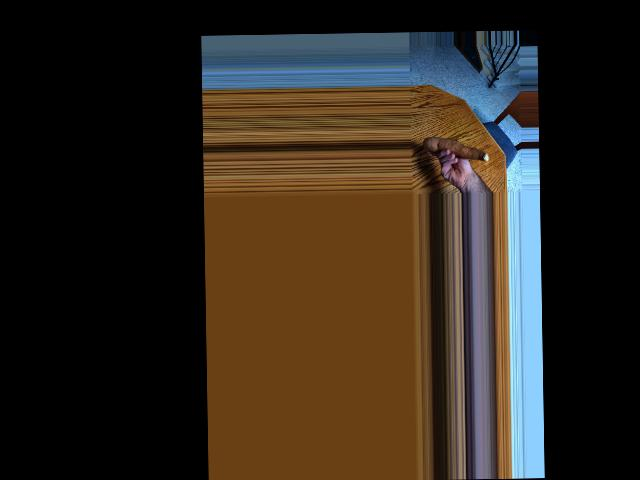sweet_potato: (425, 132, 490, 164)
